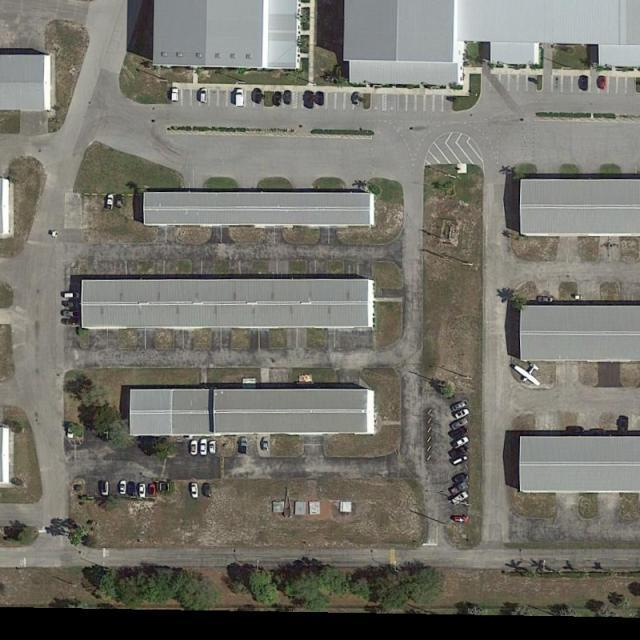vehicle: (447, 425, 469, 441), (449, 434, 470, 450), (448, 453, 470, 468), (450, 398, 470, 414), (450, 490, 470, 506), (448, 482, 469, 497), (616, 417, 630, 439), (448, 444, 467, 460), (450, 470, 468, 485), (450, 417, 470, 430), (578, 74, 590, 92), (454, 407, 470, 420), (61, 309, 81, 318), (305, 92, 315, 110), (282, 90, 292, 108), (235, 90, 245, 108), (538, 295, 554, 306), (126, 481, 137, 497), (62, 291, 81, 300), (106, 194, 116, 211), (565, 427, 586, 435), (351, 92, 362, 107), (198, 89, 209, 104), (590, 428, 608, 437), (62, 318, 82, 326), (190, 483, 200, 499), (100, 481, 110, 497), (451, 516, 468, 525), (190, 440, 200, 455), (101, 426, 110, 442), (67, 422, 76, 438), (597, 76, 607, 90), (118, 481, 128, 495), (240, 438, 248, 455), (254, 88, 262, 105), (316, 92, 325, 107), (62, 300, 81, 307), (274, 92, 282, 108), (200, 438, 207, 456), (148, 484, 157, 498), (115, 194, 123, 209), (262, 438, 270, 453), (171, 90, 180, 103), (204, 484, 212, 498), (139, 483, 146, 498), (210, 442, 217, 456)
